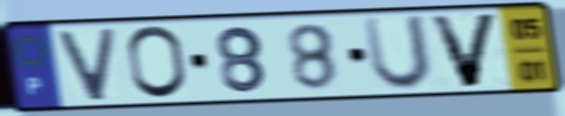8: (285, 20, 343, 93), (214, 23, 270, 96)
O: (124, 23, 191, 102)
U: (359, 12, 435, 94)
V: (425, 11, 503, 91), (54, 25, 119, 104)
